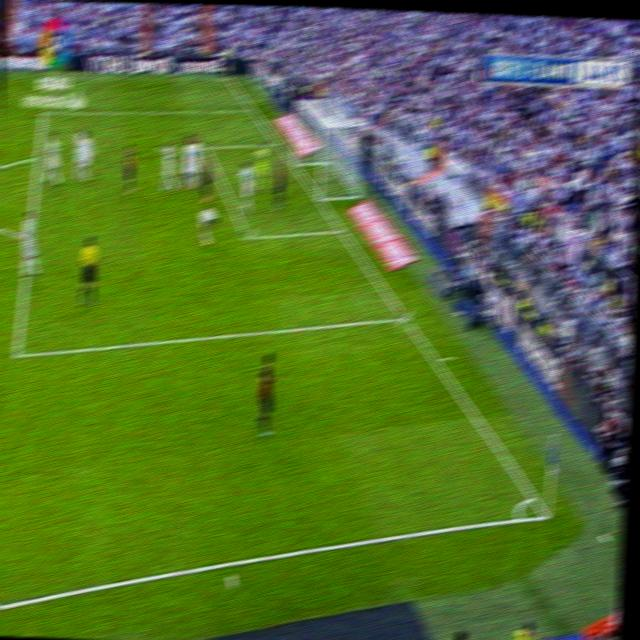bigarea_bottom_inner: (241, 225, 255, 247)
bottom_arc_area_intersection: (397, 307, 411, 327)
corner: (222, 73, 233, 82)
smallarea_bottom_outter: (335, 219, 347, 238)
smallarea_top_outter: (273, 136, 282, 149)
top_arc_area_intersection: (34, 150, 43, 165)
